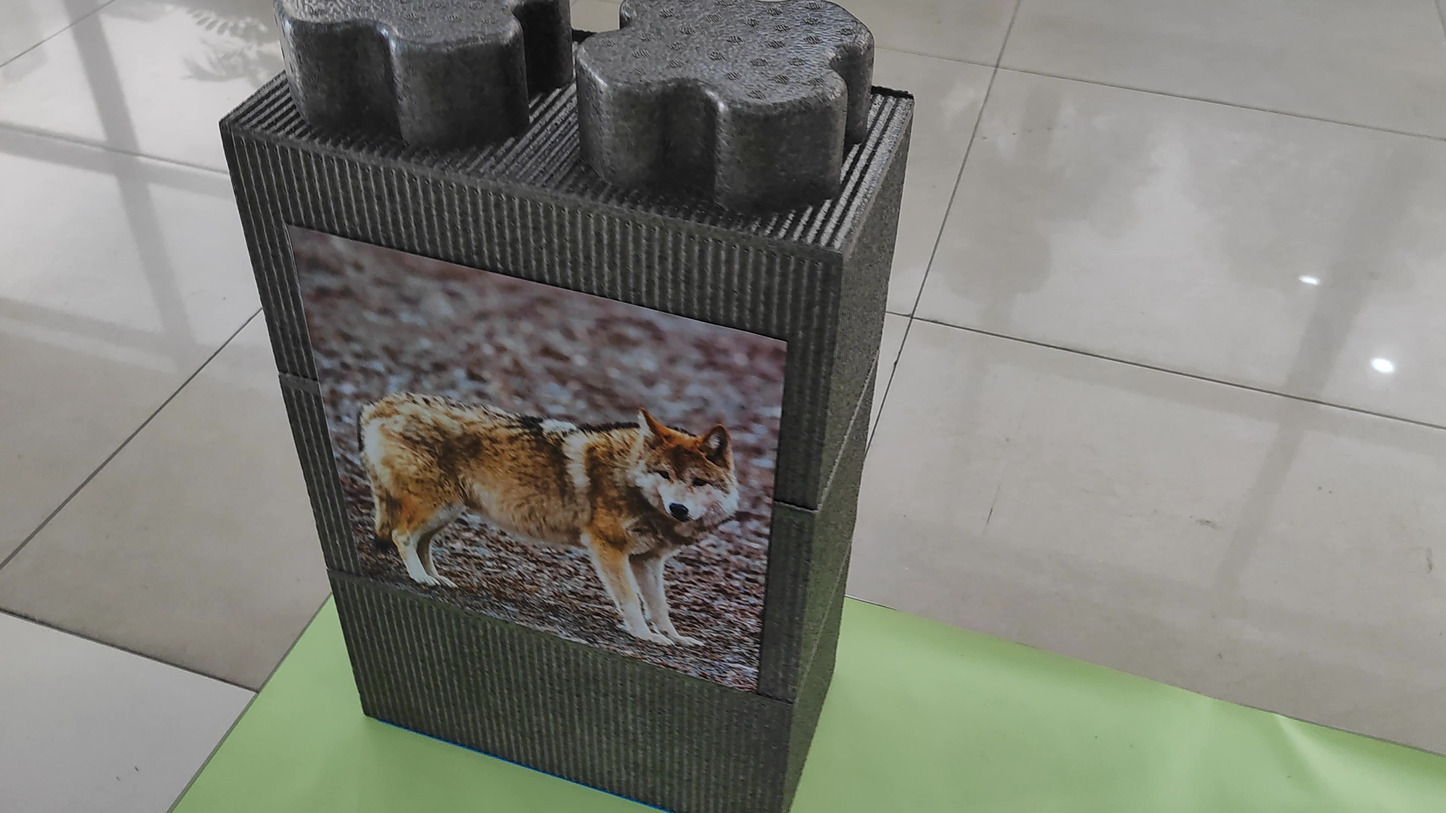wolf: (335, 334, 749, 649)
